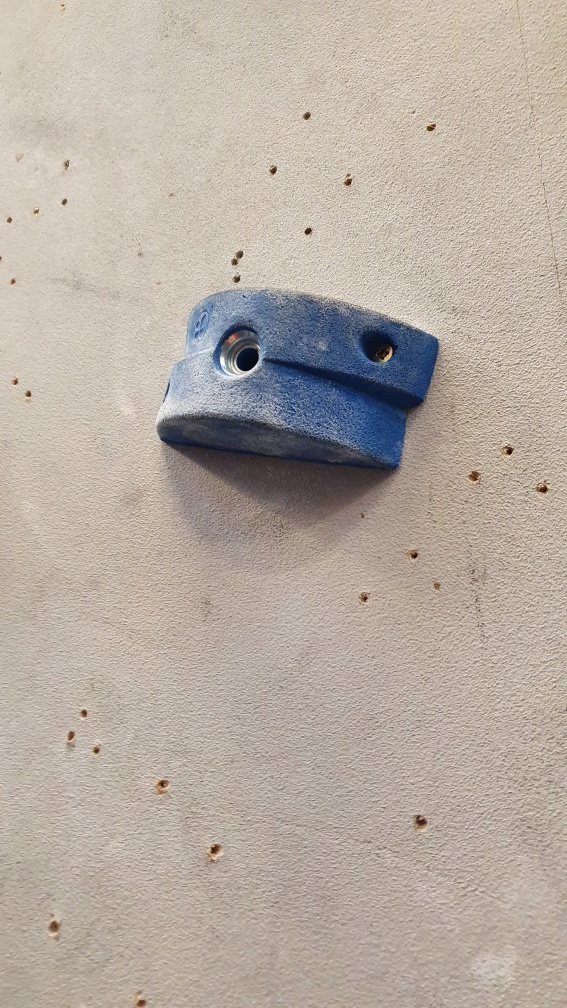Pinch: (152, 288, 446, 472)
